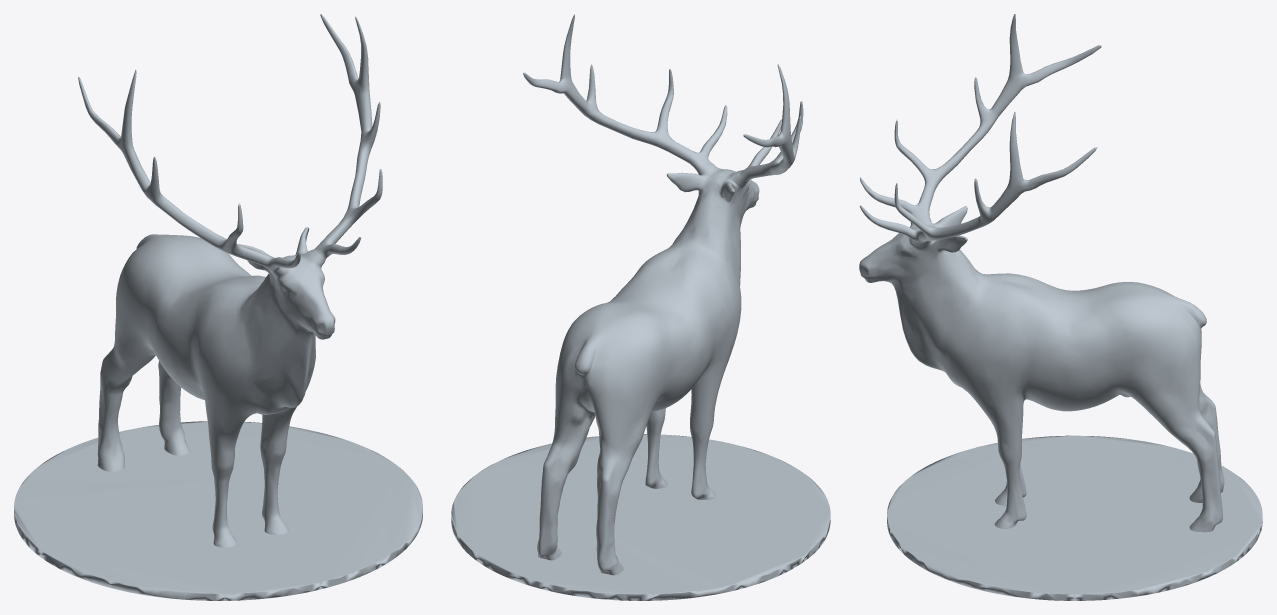
File: giant-elk.glb
The picture shows the model from 3 angles, left to right: view 1: azimuth 30°, elevation 25°; view 2: azimuth 150°, elevation 25°; view 3: azimuth 270°, elevation 25°; orthographic projection. The views are drawn at different scales.
Visible parts, largest first — view 1: Giant_Elk.001; view 2: Giant_Elk.001; view 3: Giant_Elk.001.
Part boxes in pixels (bbox=[...]): Giant_Elk.001: bbox=[14, 14, 422, 600]; Giant_Elk.001: bbox=[451, 14, 830, 600]; Giant_Elk.001: bbox=[859, 14, 1262, 600].
Size of the model in its own units: 75.74 by 102 by 81.31.
Materials: 1 (1 with a texture image).
